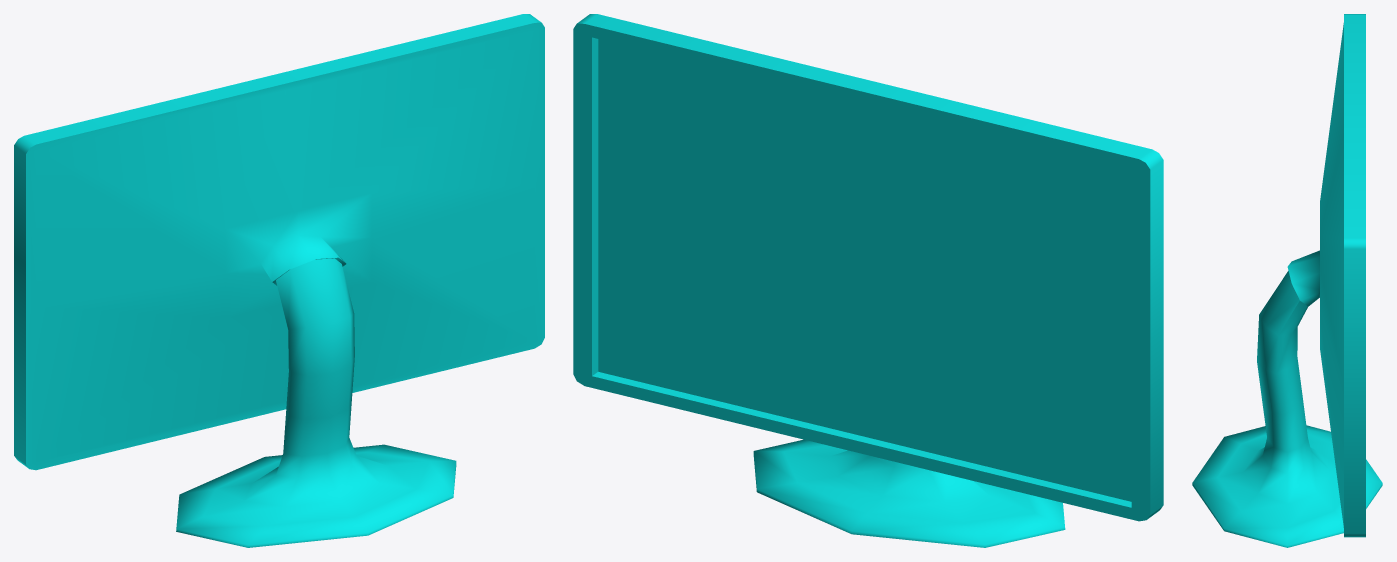
The model's file is StandingScreen.fbx.
3 renders of one model, left to right at view 1: azimuth 30°, elevation 25°; view 2: azimuth 150°, elevation 25°; view 3: azimuth 270°, elevation 25°, orthographic. The views are drawn at different scales.
Visible parts, largest first — view 1: LeggedScreen.001; view 2: LeggedScreen.001; view 3: LeggedScreen.001.
Part boxes in pixels (box(x1,y1,x2,y2)): LeggedScreen.001: box(14, 14, 544, 547); LeggedScreen.001: box(573, 14, 1163, 547); LeggedScreen.001: box(1192, 14, 1382, 547).
Bounding box in the file's own units: 50 × 17.33 × 36.05.
